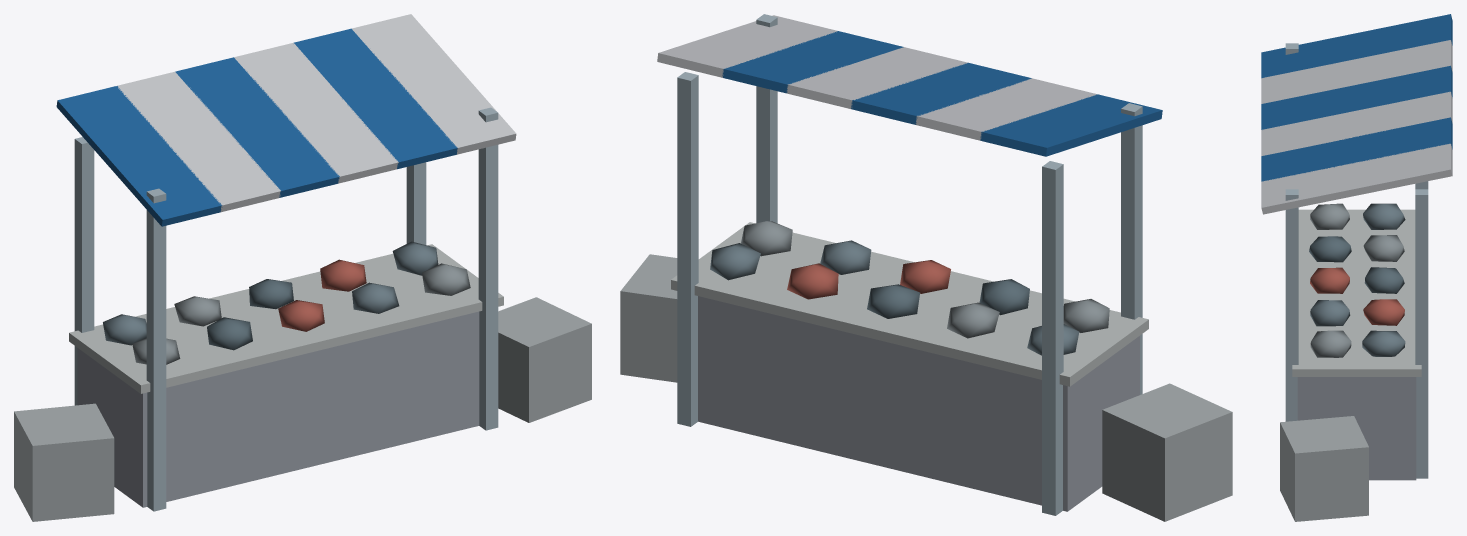
File: stall_fish.glb
3 renders of one model, left to right at view 1: azimuth 30°, elevation 25°; view 2: azimuth 150°, elevation 25°; view 3: azimuth 270°, elevation 25°, orthographic. The views are drawn at different scales.
Visible parts, largest first — view 1: stall_fish; view 2: stall_fish; view 3: stall_fish.
Boxes of the visible parts, <box> form: stall_fish: <box>14,14,591,521</box>; stall_fish: <box>620,14,1232,521</box>; stall_fish: <box>1261,14,1452,521</box>.
Bounding box in the file's own units: 5.25 × 3.18 × 1.77.
